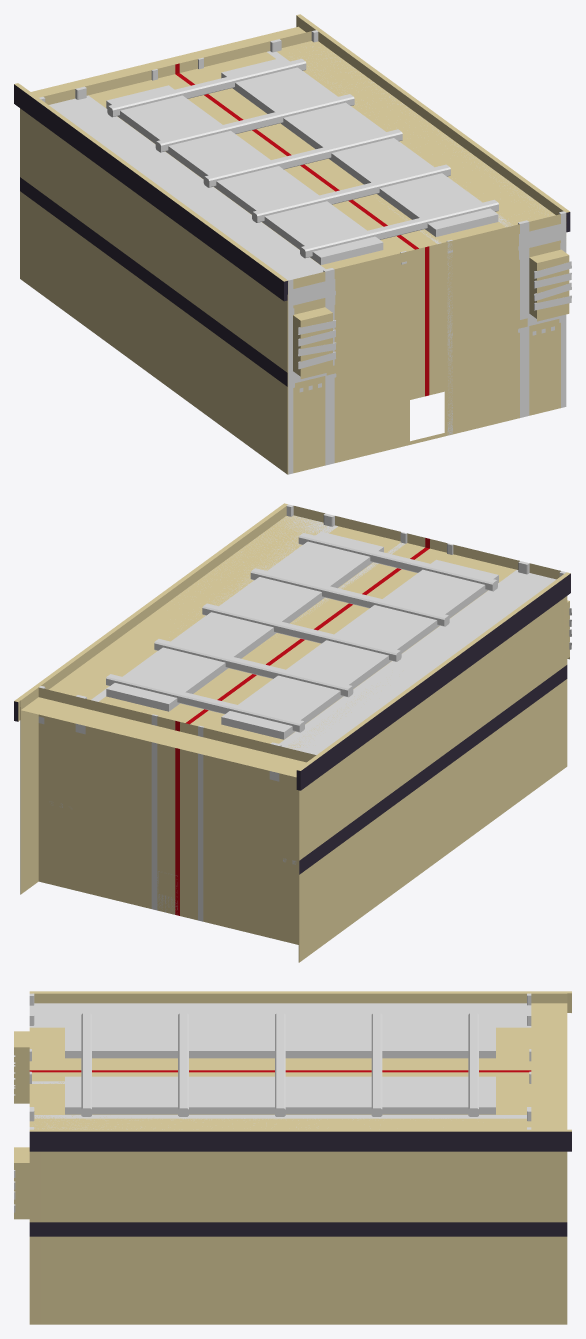
Rendered from Interior.fbx.
The picture shows the model from 3 angles, top to bottom: view 1: azimuth 30°, elevation 25°; view 2: azimuth 150°, elevation 25°; view 3: azimuth 270°, elevation 25°; orthographic projection.
Parts seen in each view (by area): view 1: Cube.082; view 2: Cube.082; view 3: Cube.082.
Part boxes in pixels (box(x1,y1,x2,y2)): Cube.082: box(14, 14, 571, 474); Cube.082: box(14, 503, 571, 962); Cube.082: box(14, 991, 571, 1324).
Size of the model in its own units: 1854 by 1206 by 3115.
